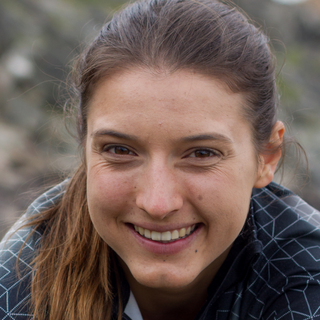eye: (169, 142, 228, 172), (94, 138, 144, 165)
